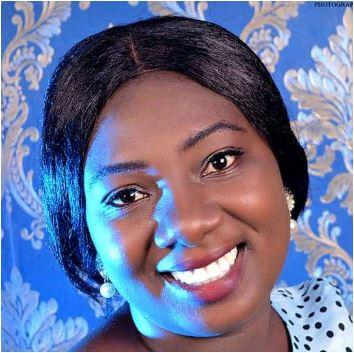without_facemask: (102, 205, 281, 317)
